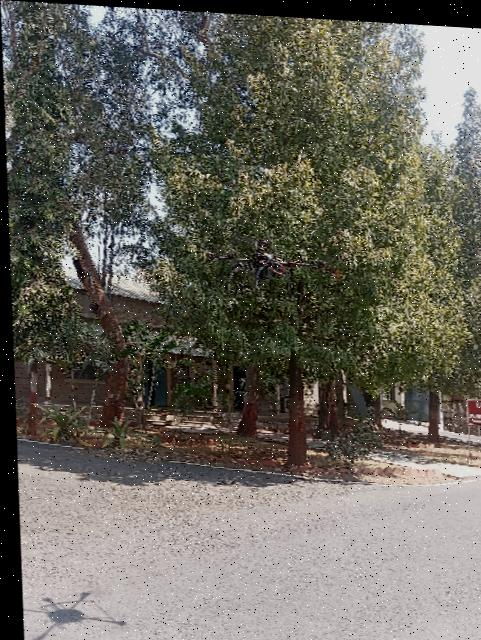drone: (195, 219, 350, 311)
